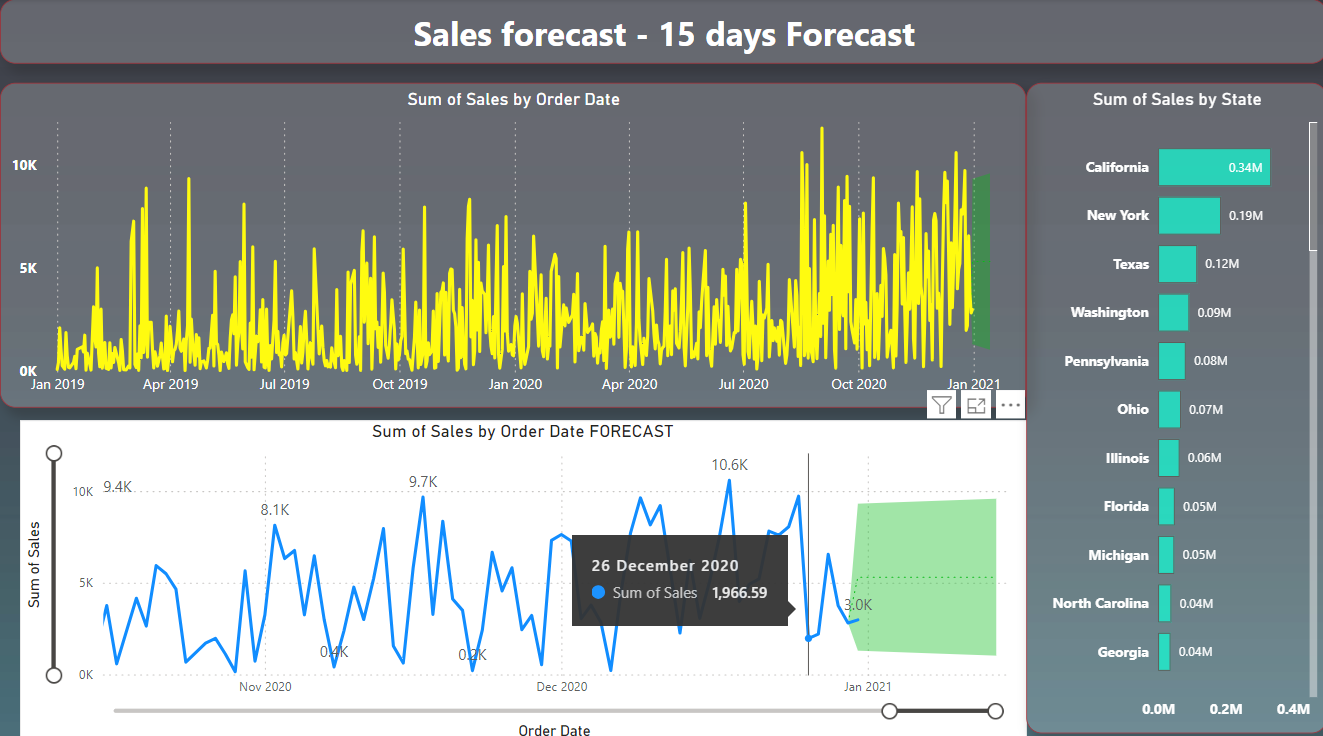

Layout of this report page (visuals, bound fields, positions):
{"tool":"powerbi","page":{"name":"Forcast","canvas":[1280,720],"ordinal":1},"visuals":[{"type":"lineChart","fields":{"Y":["Sum(SuperStore_Sales_Dataset.Sales)"],"Category":["SuperStore_Sales_Dataset.Order Date"]},"box":[0,80.6,990.3,313.9],"z":0},{"type":"lineChart","title":"Sum of Sales by Order Date FORECAST","fields":{"Y":["Sum(SuperStore_Sales_Dataset.Sales)"],"Category":["SuperStore_Sales_Dataset.Order Date"]},"box":[19.4,406.9,970.8,312.5],"z":1000},{"type":"textbox","box":[0,0,1280.6,62.5],"z":2000},{"type":"barChart","fields":{"Category":["SuperStore_Sales_Dataset.State"],"Y":["Sum(SuperStore_Sales_Dataset.Sales)"]},"box":[990.3,80.6,290.3,627.8],"z":2001}]}

Visuals, with their boxes in screenshot pixels (x1, y1, x2, y2), scaled from the page's 1280x720 canvas onto the 1323x736 screenshot:
lineChart - Sum(SuperStore_Sales_Dataset.Sales) x SuperStore_Sales_Dataset.Order Date: box(0, 82, 1024, 403)
"Sum of Sales by Order Date FORECAST" lineChart: box(20, 416, 1023, 735)
textbox: box(0, 0, 1322, 64)
barChart - SuperStore_Sales_Dataset.State x Sum(SuperStore_Sales_Dataset.Sales): box(1024, 82, 1322, 724)
